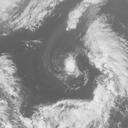cyclone: (61, 54, 84, 77)
